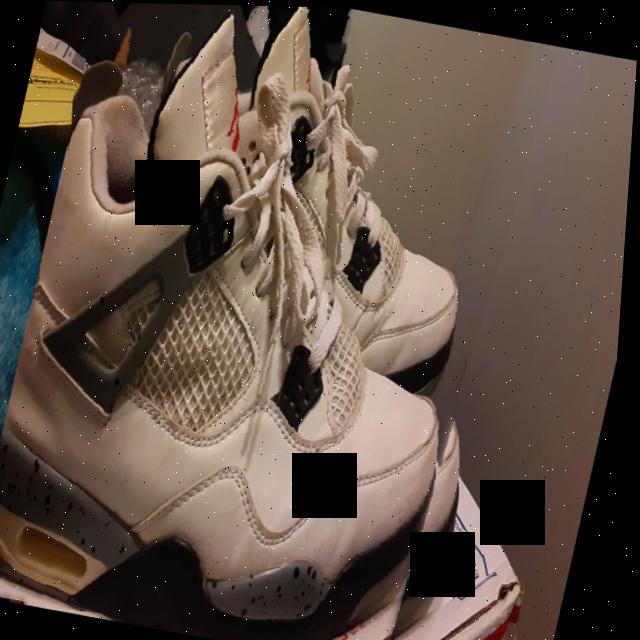shoe: (0, 0, 562, 640), (164, 3, 553, 426)
